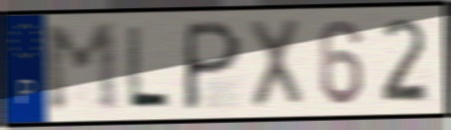2: (380, 15, 433, 108)
6: (316, 17, 366, 108)
L: (123, 23, 173, 111)
M: (41, 19, 124, 116)
P: (179, 17, 246, 114)
X: (245, 15, 307, 112)
